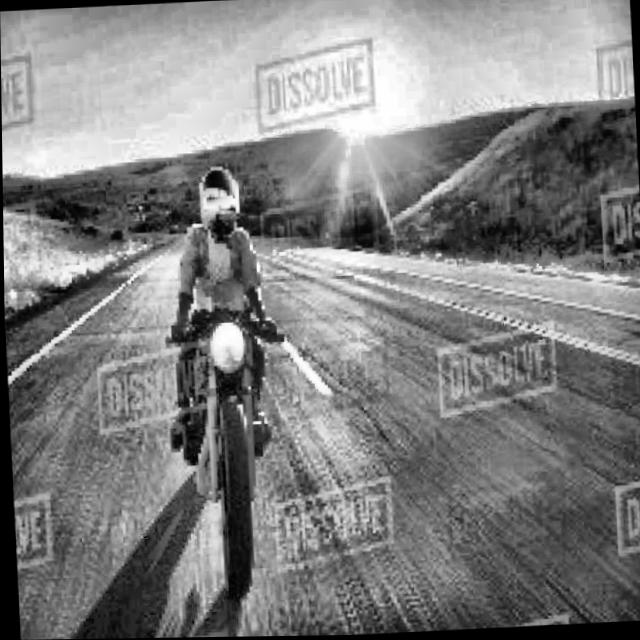motorcycle: (158, 288, 291, 594)
